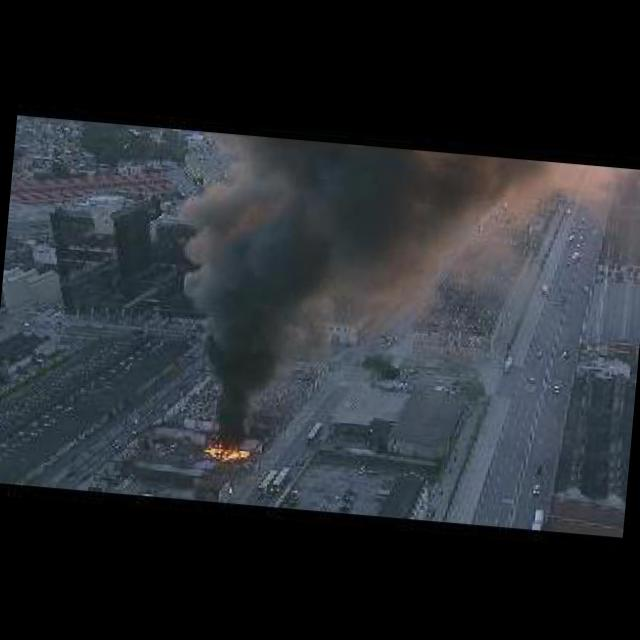fire: (202, 439, 248, 463)
smoke: (156, 146, 406, 460)
